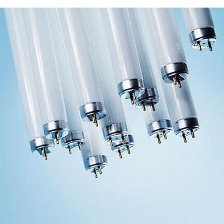light_bulb: (31, 0, 110, 179), (64, 0, 135, 158), (64, 0, 131, 146), (108, 0, 173, 144), (140, 0, 204, 146), (1, 0, 58, 163), (36, 0, 89, 155), (22, 0, 73, 146), (55, 0, 109, 128), (101, 0, 161, 113), (110, 0, 162, 117), (140, 2, 193, 90), (174, 0, 217, 55)
